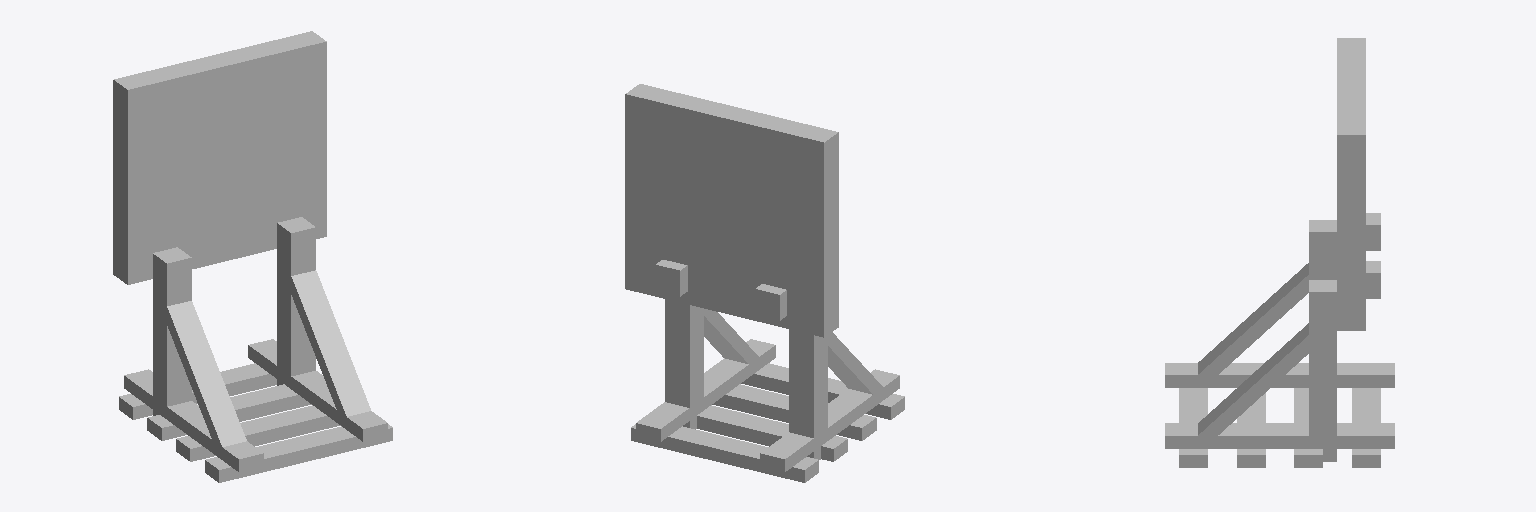
Rendered from sm_mapnodes_bumper2.obj.
3 renders of one model, left to right at view 1: azimuth 30°, elevation 25°; view 2: azimuth 150°, elevation 25°; view 3: azimuth 270°, elevation 25°, orthographic.
Visible parts, largest first — view 1: Bumper2_Cube.005; view 2: Bumper2_Cube.005; view 3: Bumper2_Cube.005.
Part boxes in pixels (x1,y1,x2,y2): Bumper2_Cube.005: (113, 31, 392, 482); Bumper2_Cube.005: (625, 84, 904, 482); Bumper2_Cube.005: (1165, 38, 1394, 467).
Size of the model in its own units: 1 by 1.62 by 1.